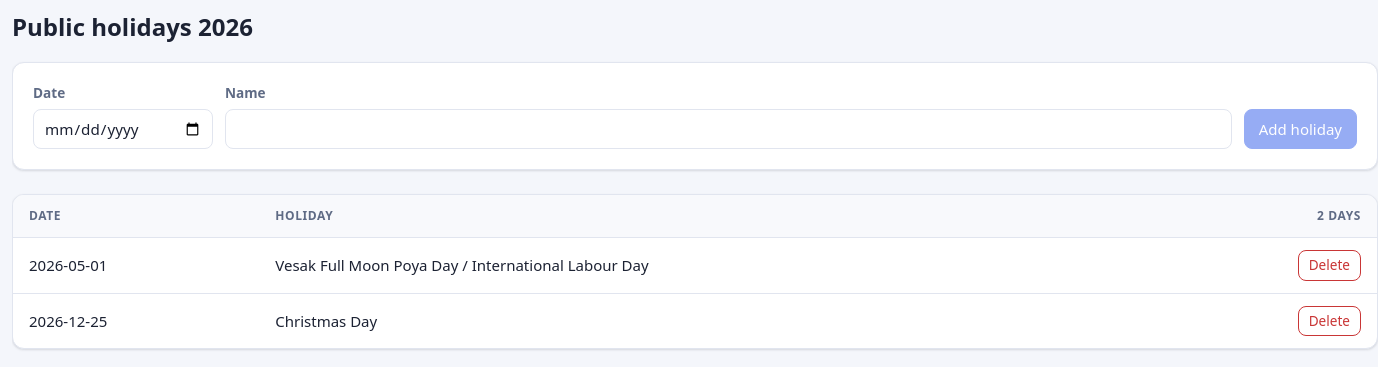
Test case: Holidays page › Add is disabled until both date and name are filled
Expected: the button "Add holiday" is disabled, [1244,109,1357,149]
Step 1. Type "2026-12-31" into the date field labelled "Date" → [123, 129], box [33,109,213,149]
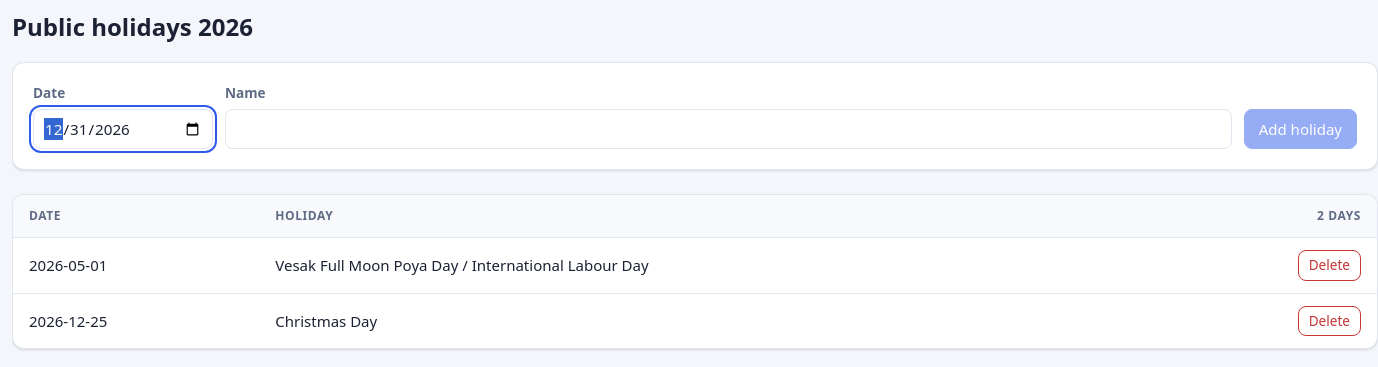
Expected: the button "Add holiday" is disabled, [1244,109,1357,149]
Step 2. Type "Special bank holiday" into the field labelled "Name" → [728, 129], box [225,109,1232,149]
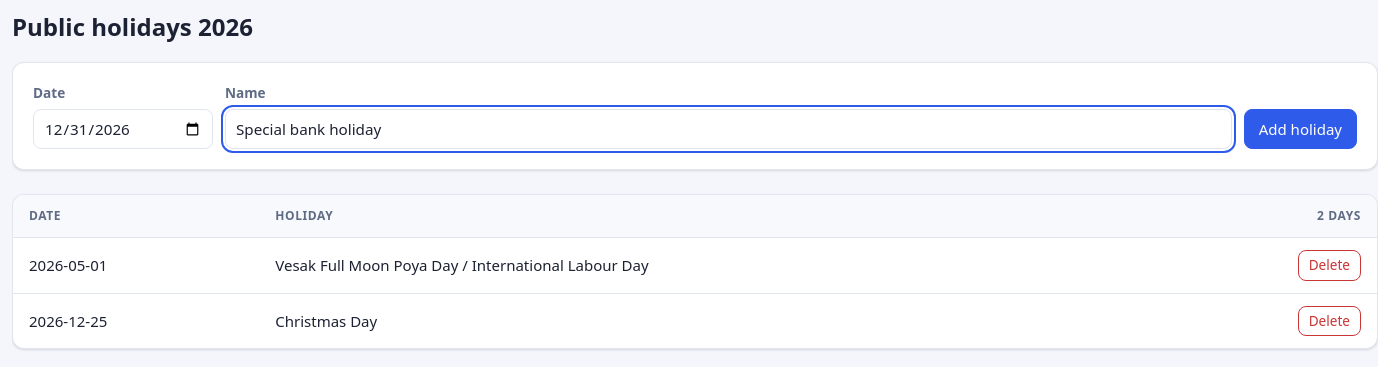
Now the button "Add holiday" is enabled, box [1244,109,1357,149]
